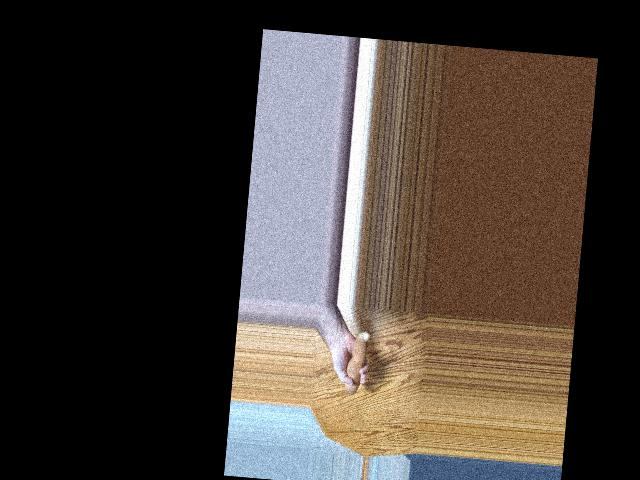sweet_potato: (340, 328, 368, 400)
